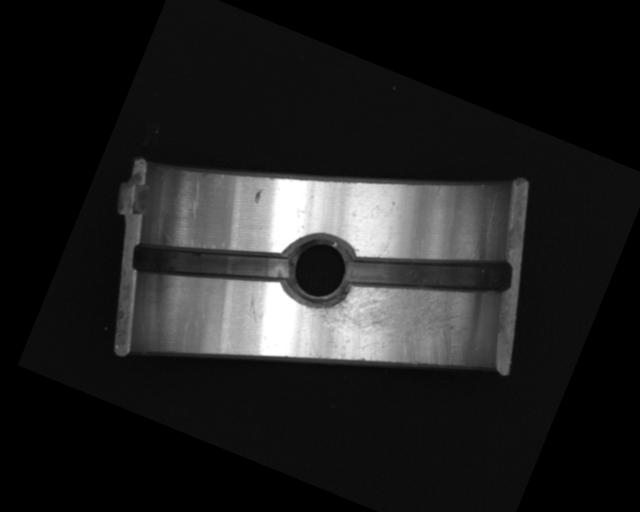bruise: (250, 187, 264, 205)
gap: (345, 207, 516, 337), (127, 205, 293, 324)
hole: (270, 220, 366, 318)
nick: (181, 175, 212, 220), (237, 281, 270, 323)
scratch: (286, 241, 482, 415)
